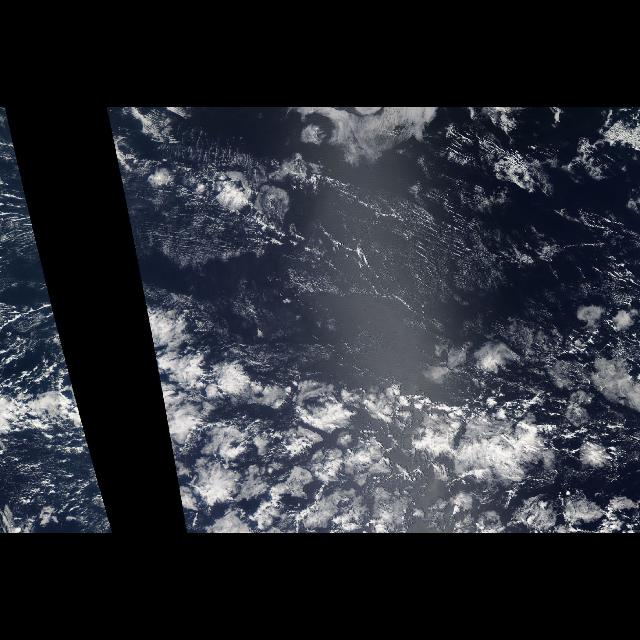Flower: (145, 303, 639, 533), (104, 501, 114, 533)
Gravel: (0, 299, 111, 527)
Sugar: (124, 129, 536, 367)
